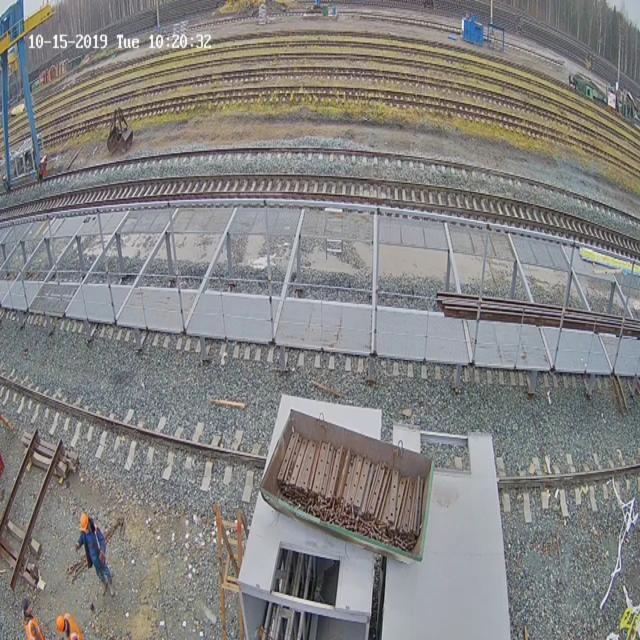Helmet: (79, 512, 89, 532), (56, 615, 65, 631)
Person: (75, 512, 115, 596), (22, 597, 45, 639), (56, 613, 84, 639)
